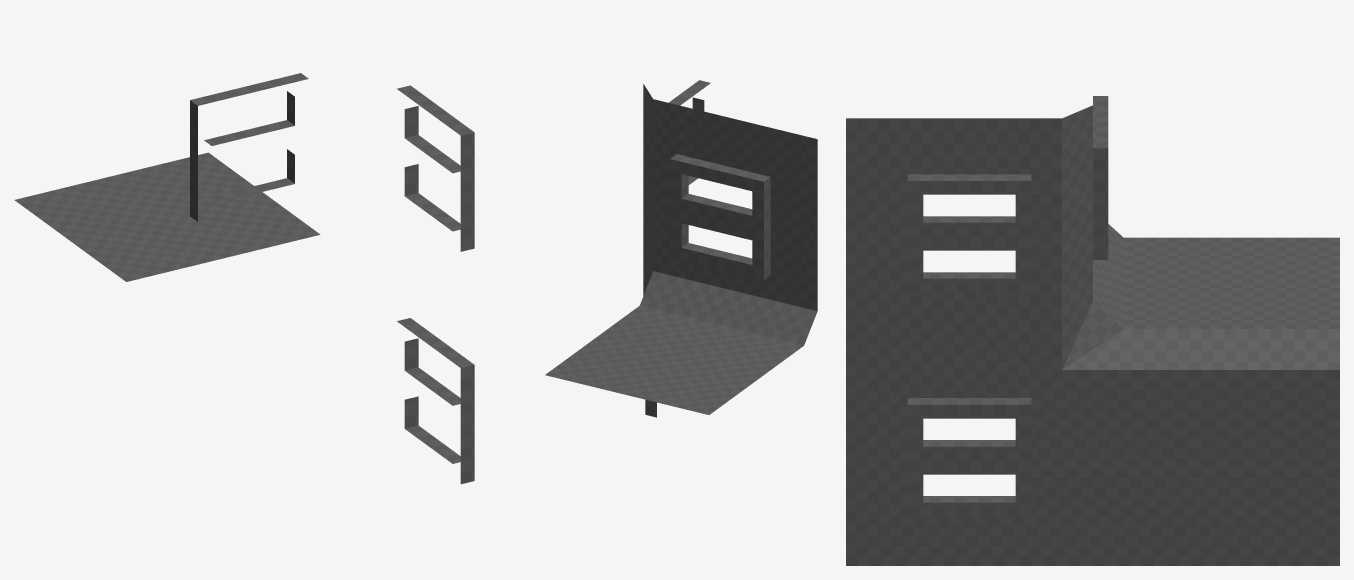
3 views of the same model, side by side, from view 1: azimuth 30°, elevation 25°; view 2: azimuth 150°, elevation 25°; view 3: azimuth 270°, elevation 25° (orthographic). The views are drawn at different scales.
Visible parts, largest first — view 1: CubeUpBackRight4V2; view 2: CubeUpBackRight4V2; view 3: CubeUpBackRight4V2.
Part boxes in pixels (bbox=[...]): CubeUpBackRight4V2: bbox=[14, 73, 474, 484]; CubeUpBackRight4V2: bbox=[545, 80, 817, 417]; CubeUpBackRight4V2: bbox=[846, 96, 1339, 565].
Size of the model in its own units: 2.12 by 4 by 4.
Materials: 1 (1 with a texture image).
